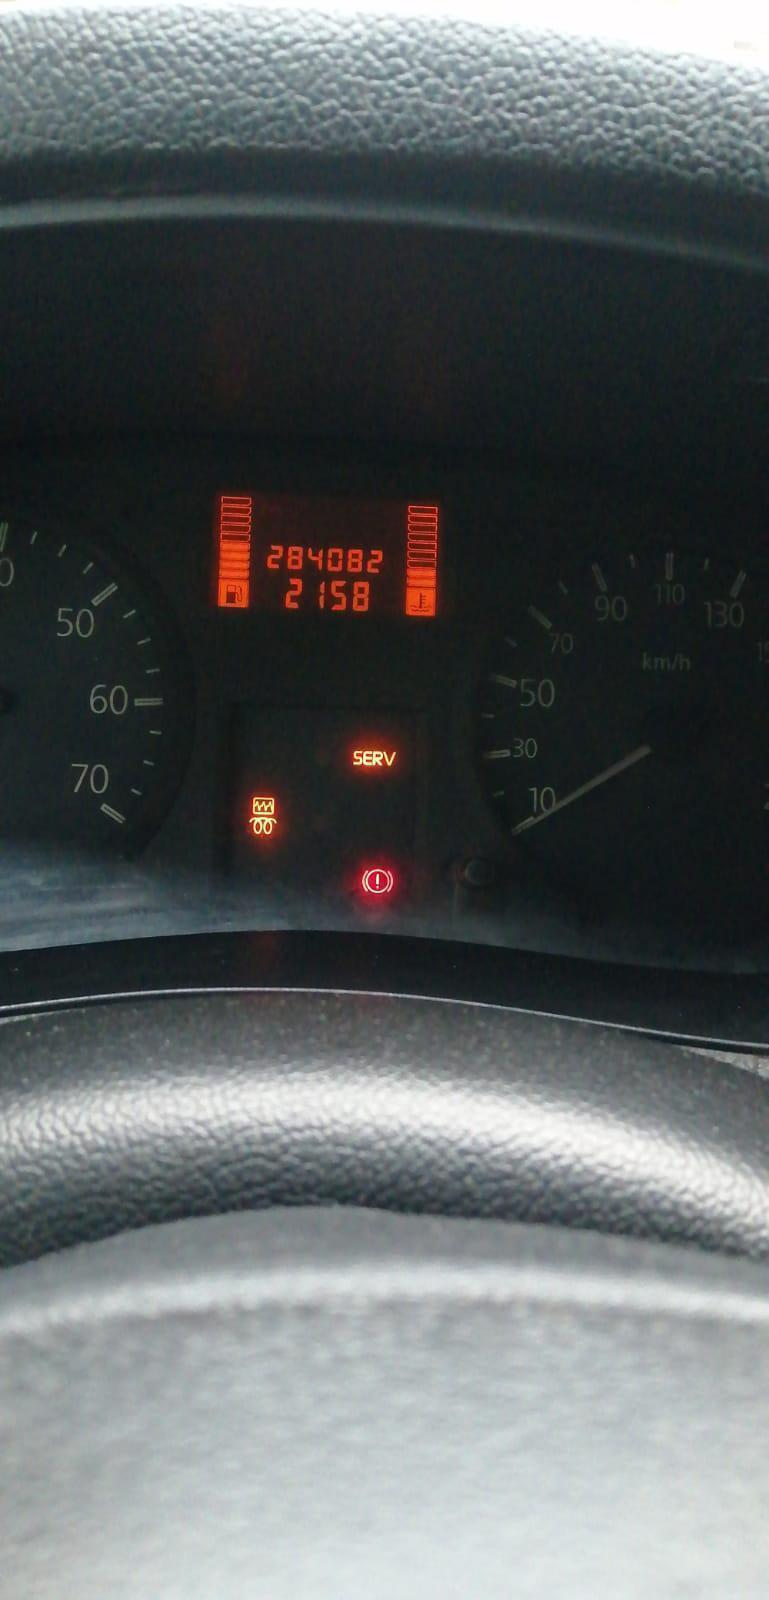0: (326, 548, 342, 571)
1: (318, 580, 325, 609)
2: (284, 577, 302, 608), (265, 544, 284, 569), (366, 549, 383, 574)
4: (307, 546, 323, 570)
5: (330, 580, 346, 611)
8: (352, 581, 369, 611), (286, 546, 303, 570), (346, 549, 362, 572)
odometer: (204, 481, 449, 622)
